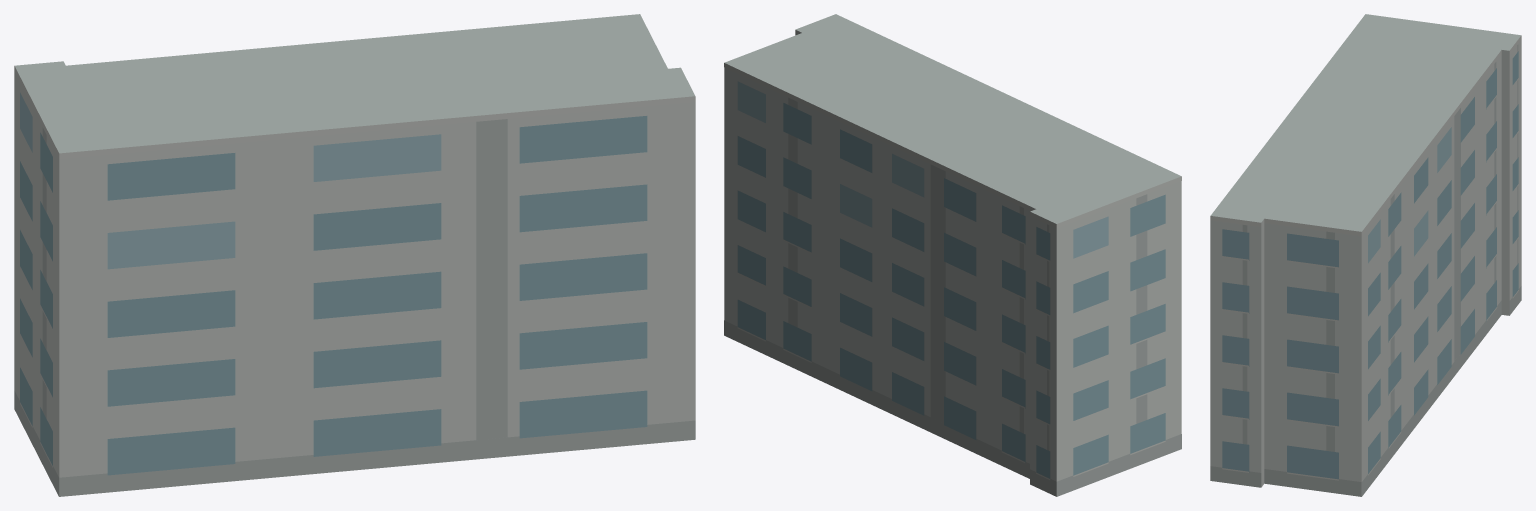
File: survey-upis-32637066.glb
3 views of the same model, side by side, from view 1: azimuth 30°, elevation 25°; view 2: azimuth 150°, elevation 25°; view 3: azimuth 270°, elevation 25° (orthographic). The views are drawn at different scales.
Visible parts, largest first — view 1: survey-upis-32637066.tmp; view 2: survey-upis-32637066.tmp; view 3: survey-upis-32637066.tmp.
Boxes of the visible parts, x1,y1,x2,y2 form: survey-upis-32637066.tmp: [14, 14, 695, 496]; survey-upis-32637066.tmp: [724, 14, 1181, 496]; survey-upis-32637066.tmp: [1210, 14, 1521, 496].
Bounding box in the file's own units: 25.04 × 14.2 × 15.11.
